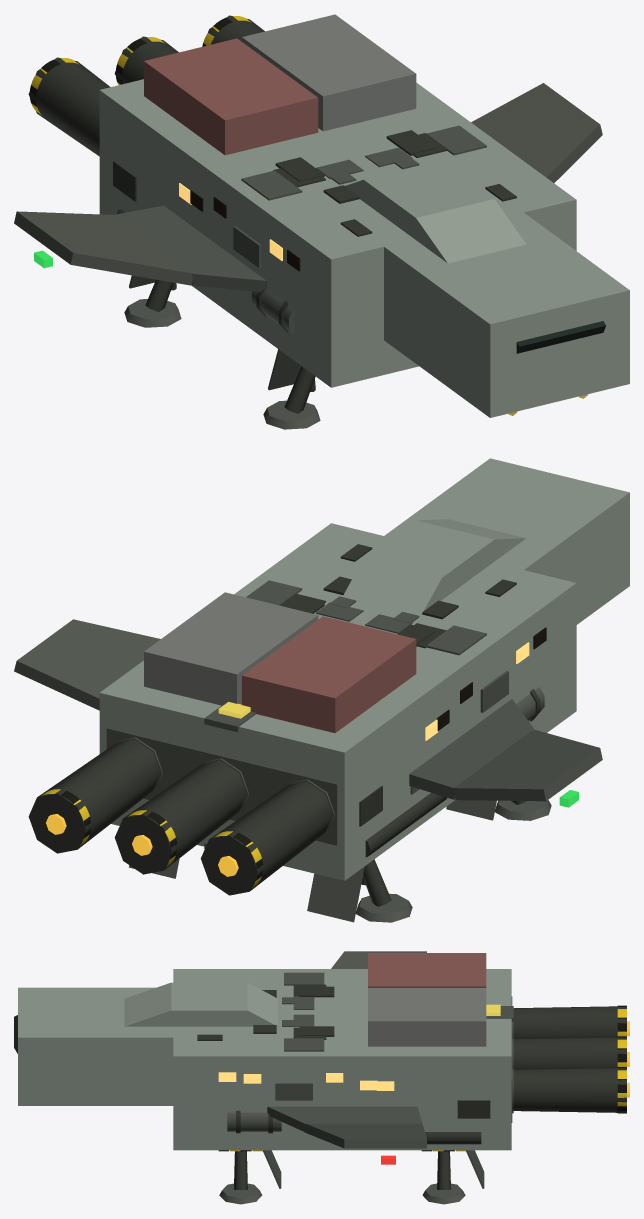
File: freighter-s.glb
3 renders of one model, top to bottom at view 1: azimuth 30°, elevation 25°; view 2: azimuth 150°, elevation 25°; view 3: azimuth 270°, elevation 25°, orthographic. The views are drawn at different scales.
Parts seen in each view (by area): view 1: hullMain, hullNose, cargoContainer0_0L, cargoContainer0_0R, canopyFairing, wingOuterLeft, wingOuterRight, engineHousing (×3), wingInnerLeft, gearFoot (×2), gearStrut (×2), cockpitGlass (+8 smaller); view 2: hullMain, engineHousing (×3), hullNose, cargoContainer0_0L, cargoContainer0_0R, canopyFairing, wingOuterRight, wingOuterLeft, wingInnerLeft, engineBayExtension, gearBayDoor (×2), gearFoot (×2) (+5 smaller); view 3: hullMain, hullNose, engineHousing (×3), cargoContainer0_0R, canopyFairing, cargoContainer0_0L, wingOuterRight, wingInnerRight, gearFoot (×2), gearStrut (×2), freighterShipPropellantTankR, freighterShipServicePipeR (+7 smaller).
Boxes of the visible parts, left/top/right/bottom form: hullMain: left=99, top=79, right=576, bottom=387; hullNose: left=375, top=212, right=629, bottom=417; cargoContainer0_0L: left=144, top=38, right=318, bottom=155; cargoContainer0_0R: left=242, top=14, right=416, bottom=131; canopyFairing: left=345, top=160, right=526, bottom=263; wingOuterLeft: left=14, top=211, right=192, bottom=285; wingOuterRight: left=471, top=83, right=602, bottom=182; engineHousing (×3): left=28, top=15, right=264, bottom=156; wingInnerLeft: left=113, top=205, right=266, bottom=291; gearFoot (×2): left=124, top=299, right=320, bottom=429; gearStrut (×2): left=145, top=279, right=315, bottom=413; cockpitGlass: left=516, top=321, right=605, bottom=353; hullMain: left=99, top=523, right=576, bottom=880; engineHousing (×3): left=28, top=739, right=332, bottom=895; hullNose: left=384, top=458, right=629, bottom=624; cargoContainer0_0L: left=242, top=616, right=416, bottom=732; cargoContainer0_0R: left=144, top=592, right=318, bottom=705; canopyFairing: left=343, top=519, right=526, bottom=614; wingOuterRight: left=14, top=619, right=160, bottom=710; wingOuterLeft: left=453, top=729, right=602, bottom=801; wingInnerLeft: left=409, top=699, right=534, bottom=799; engineBayExtension: left=106, top=728, right=337, bottom=845; gearBayDoor (×2): left=307, top=800, right=496, bottom=922; gearFoot (×2): left=356, top=800, right=551, bottom=922; hullMain: left=173, top=969, right=511, bottom=1150; hullNose: left=18, top=987, right=187, bottom=1105; engineHousing (×3): left=513, top=1006, right=626, bottom=1112; cargoContainer0_0R: left=368, top=988, right=486, bottom=1046; canopyFairing: left=124, top=982, right=277, bottom=1026; cargoContainer0_0L: left=368, top=953, right=486, bottom=987; wingOuterRight: left=305, top=1123, right=426, bottom=1148; wingInnerRight: left=267, top=1106, right=422, bottom=1131; gearFoot (×2): left=219, top=1183, right=465, bottom=1204; gearStrut (×2): left=234, top=1151, right=450, bottom=1189; freighterShipPropellantTankR: left=227, top=1112, right=281, bottom=1131; freighterShipServicePipeR: left=425, top=1132, right=481, bottom=1144.
Bounding box in the file's own units: 4.8 × 1.96 × 6.55.
